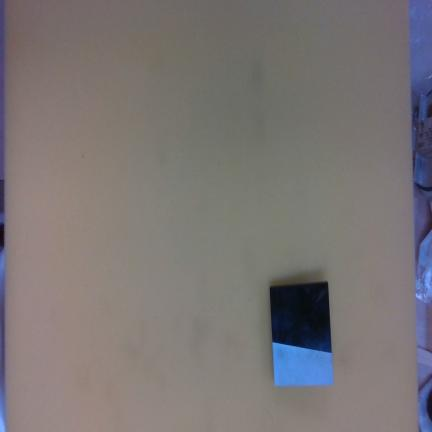tile: (271, 279, 334, 386)
